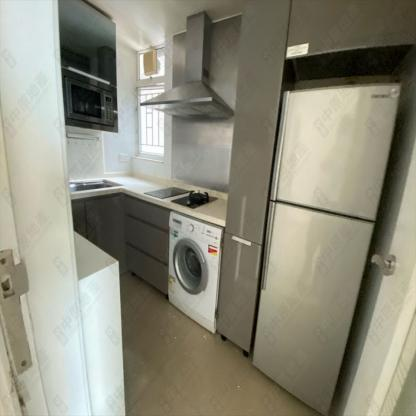Cupboard: (72, 192, 170, 295)
Exhaust Hood: (139, 13, 235, 119)
Fridge: (251, 81, 403, 413)
Microwave: (65, 76, 113, 126)
Sink: (70, 180, 121, 191)
Stove: (146, 185, 216, 209)
Washing Machine: (166, 210, 223, 334)
